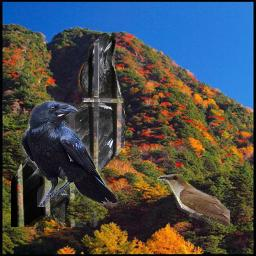Crow: (11, 33, 125, 227), (21, 100, 120, 207)
Cuckoo: (156, 174, 230, 228)
